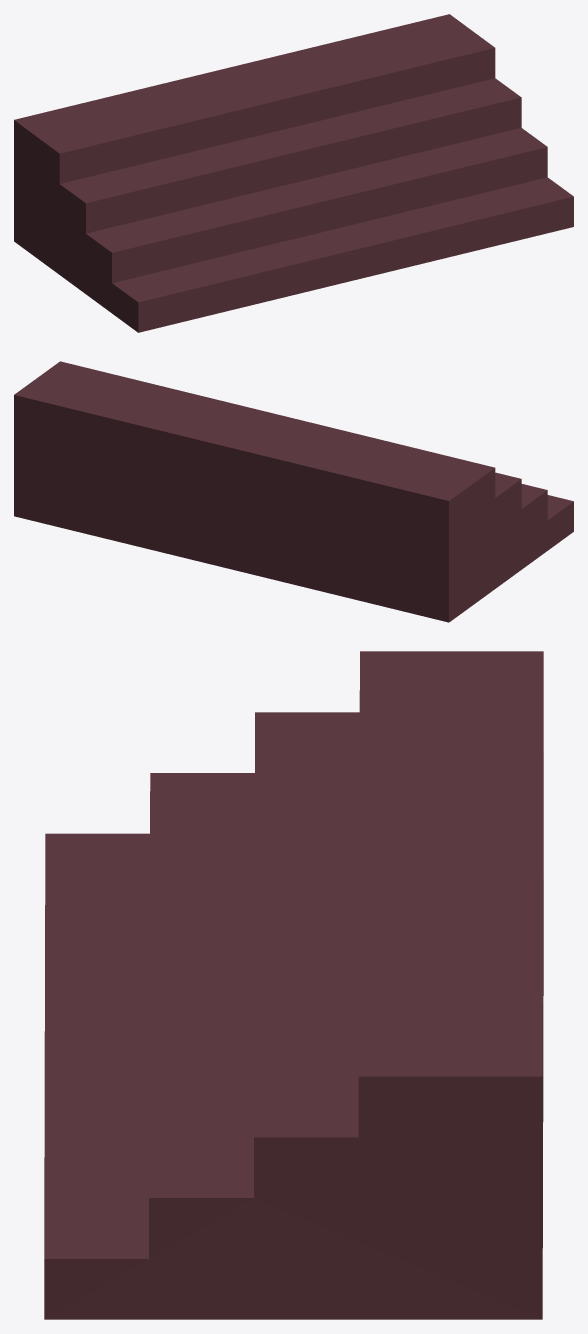
File: SM_Stairs_Small_Empire.fbx
3 views of the same model, one above another, from view 1: azimuth 30°, elevation 25°; view 2: azimuth 150°, elevation 25°; view 3: azimuth 270°, elevation 25° (orthographic). The views are drawn at different scales.
Parts seen in each view (by area): view 1: SM_Stairs_Small_Empire; view 2: SM_Stairs_Small_Empire; view 3: SM_Stairs_Small_Empire.
Boxes of the visible parts, bbox=[...] form: SM_Stairs_Small_Empire: bbox=[14, 14, 573, 332]; SM_Stairs_Small_Empire: bbox=[14, 361, 573, 622]; SM_Stairs_Small_Empire: bbox=[44, 651, 543, 1319].
Size of the model in its own units: 3 by 0.8017 by 1.49.
